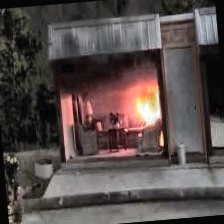fire: (133, 77, 169, 127)
